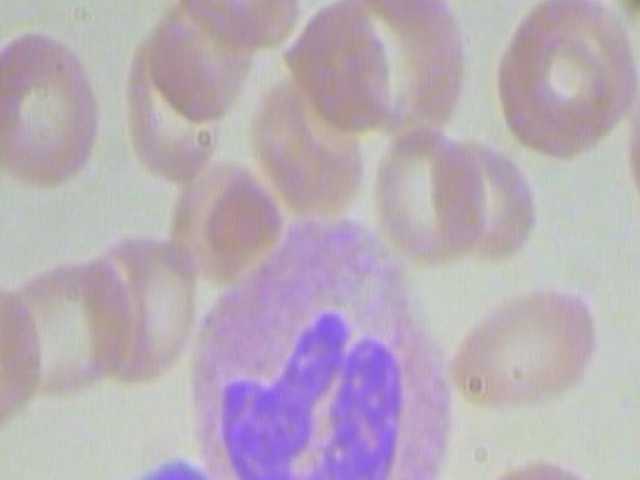RBC: (445, 264, 601, 434), (0, 246, 139, 412), (66, 228, 202, 385), (507, 0, 640, 143), (0, 19, 108, 190), (137, 0, 269, 137), (370, 113, 487, 263), (427, 130, 539, 265), (456, 455, 612, 480), (615, 0, 640, 40)
WBC: (167, 208, 449, 480), (69, 455, 281, 480)
